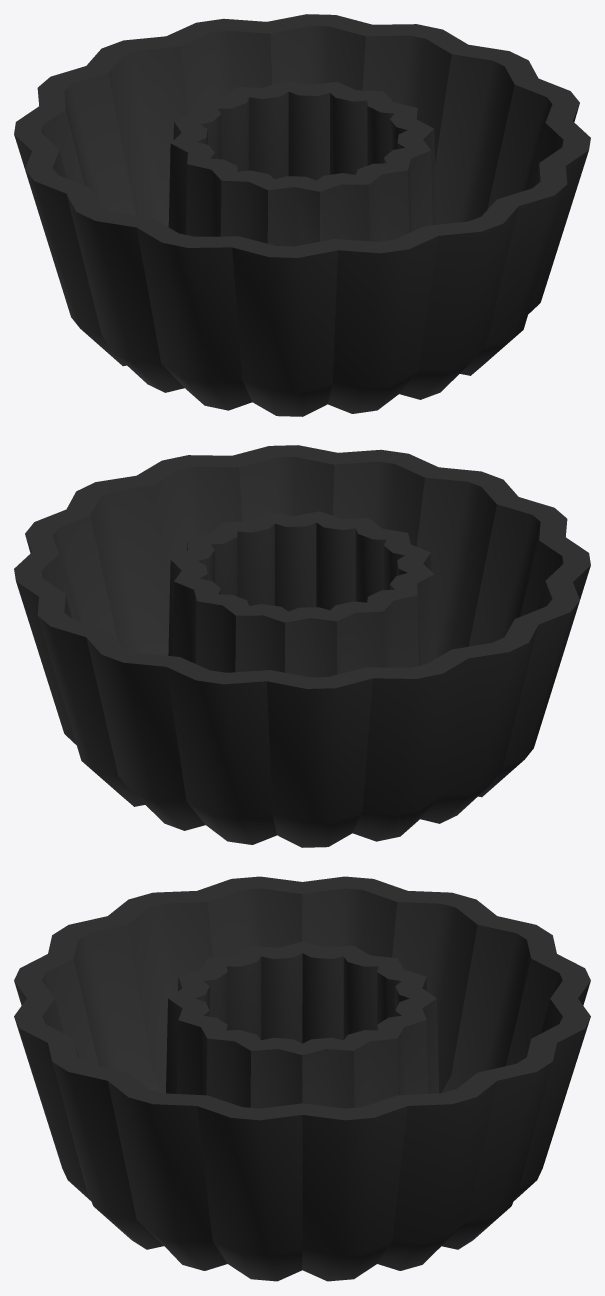
File: GelatingBakingMold_01.fbx
The picture shows the model from 3 angles, top to bottom: view 1: azimuth 30°, elevation 25°; view 2: azimuth 150°, elevation 25°; view 3: azimuth 270°, elevation 25°; orthographic projection.
Visible parts, largest first — view 1: GelatingBakingMold_01; view 2: GelatingBakingMold_01; view 3: GelatingBakingMold_01.
Part boxes in pixels (box(x1,y1,x2,y2)): GelatingBakingMold_01: box(14, 14, 590, 416); GelatingBakingMold_01: box(14, 445, 590, 847); GelatingBakingMold_01: box(14, 876, 590, 1281).
Size of the model in its own units: 0.1978 by 0.0759 by 0.1978.
